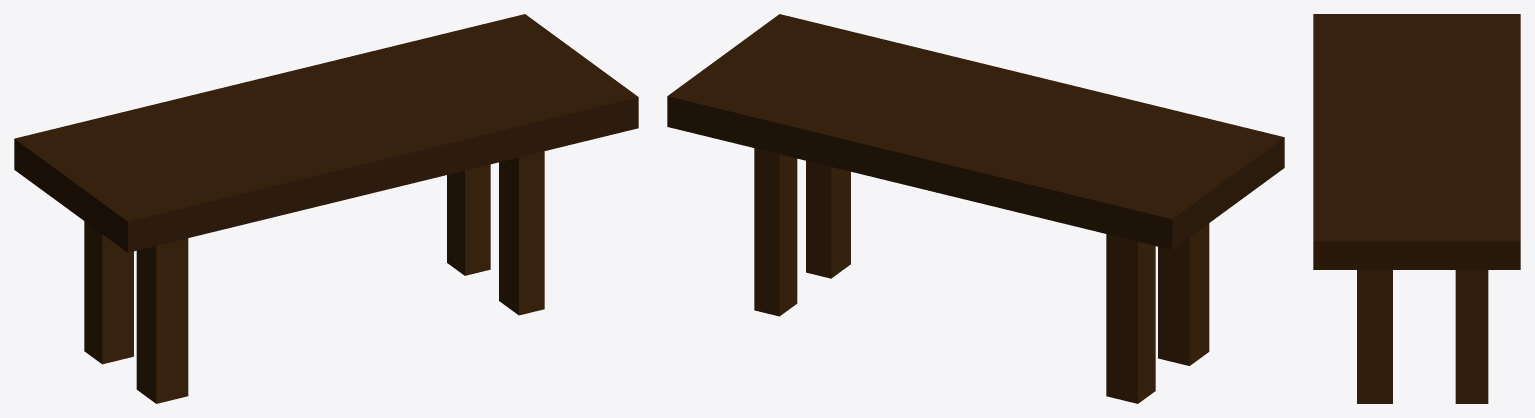
The model's file is Table.fbx.
The picture shows the model from 3 angles, left to right: view 1: azimuth 30°, elevation 25°; view 2: azimuth 150°, elevation 25°; view 3: azimuth 270°, elevation 25°; orthographic projection. The views are drawn at different scales.
Visible parts, largest first — view 1: pCube1; view 2: pCube1; view 3: pCube1.
Part boxes in pixels (x1,y1,x2,y2): pCube1: [14, 14, 638, 403]; pCube1: [667, 14, 1284, 403]; pCube1: [1313, 14, 1520, 403].
Size of the model in its own units: 444 by 176 by 171.
Materials: 1 (1 with a texture image).
